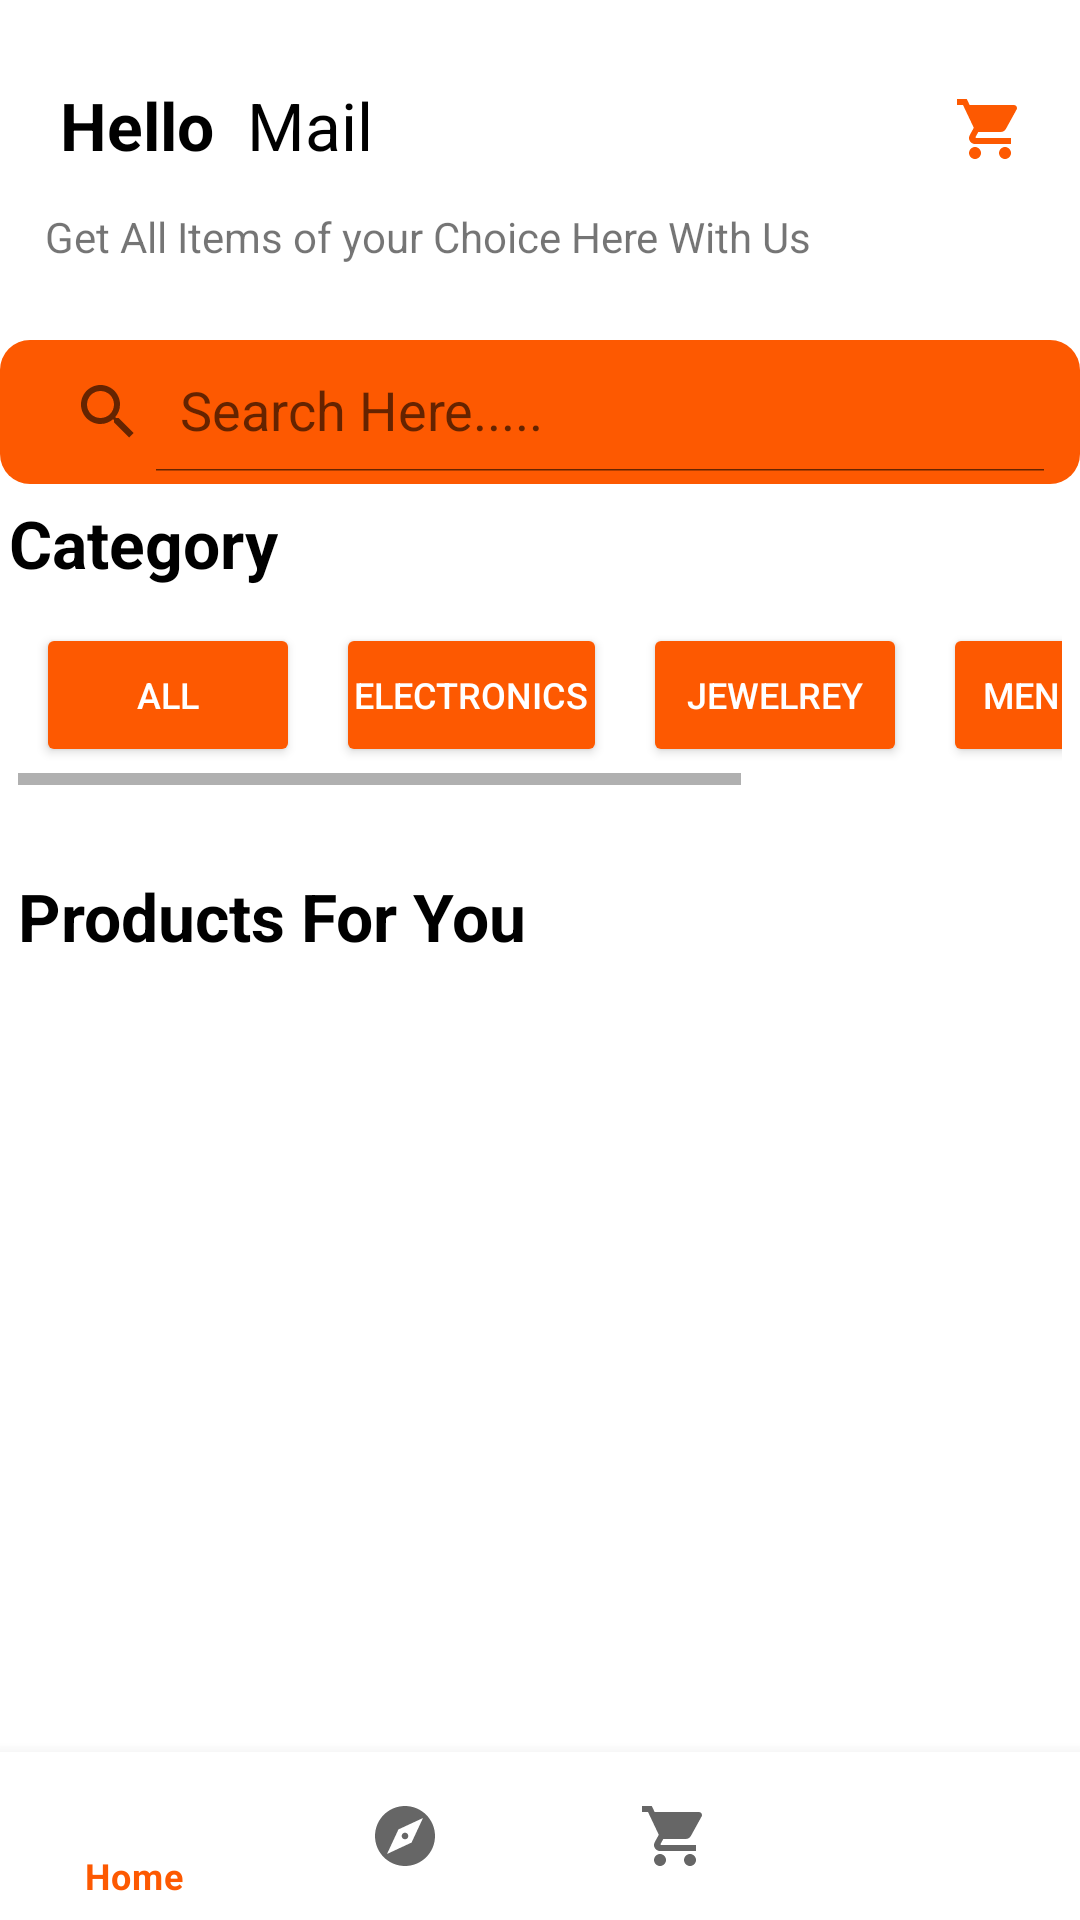

Icons on this 1080*1920 Android screen, each with its box as detection(x1, y1, x2, y2):
shopping cart: detection(957, 99, 1017, 159)
